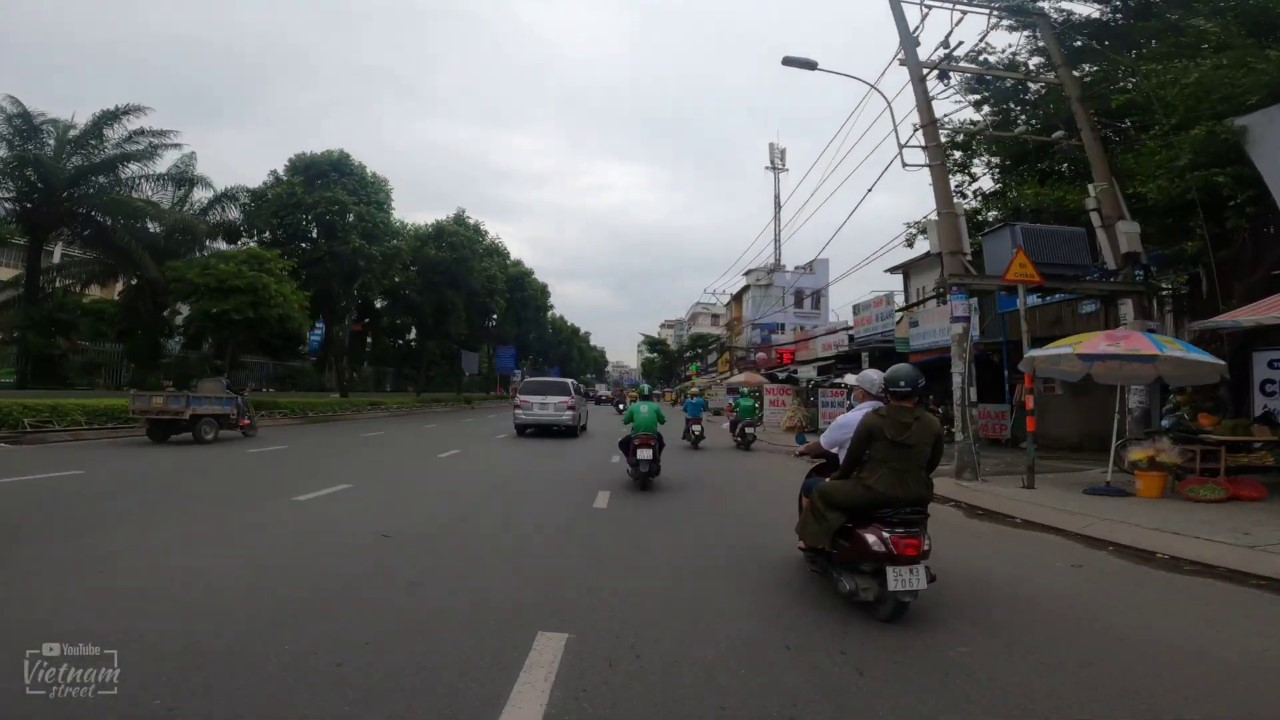di_cham: (1001, 245, 1045, 285)
